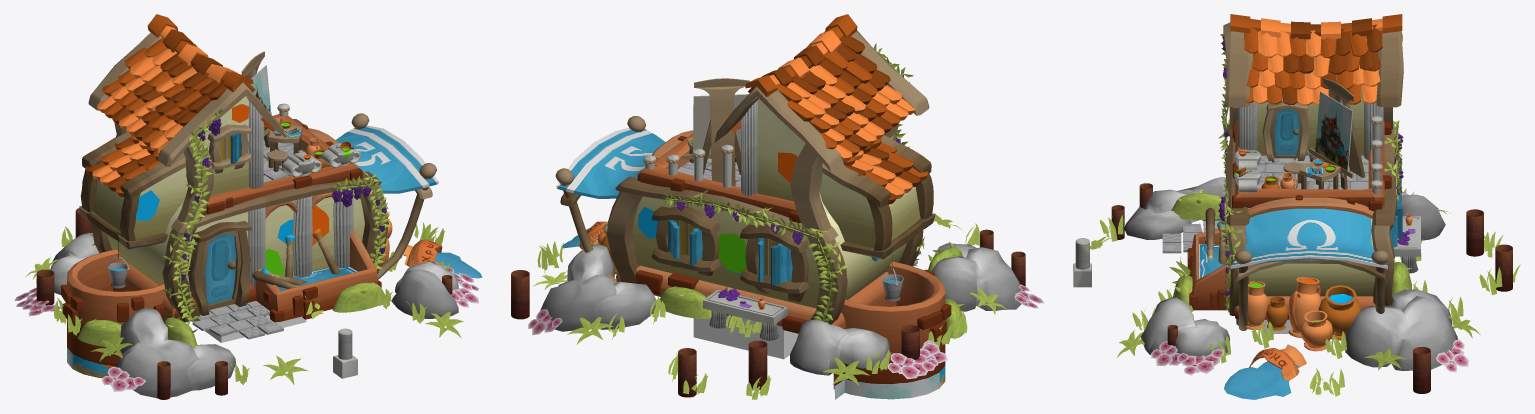
File: nha.fbx
3 renders of one model, left to right at view 1: azimuth 30°, elevation 25°; view 2: azimuth 150°, elevation 25°; view 3: azimuth 270°, elevation 25°, orthographic. The views are drawn at different scales.
Visible parts, largest first — view 1: Diorama_01_GEO, Cube; view 2: Diorama_01_GEO, Cube; view 3: Diorama_01_GEO.
Boxes of the visible parts, box(x1,y1,x2,y2) form: Diorama_01_GEO: box(14, 14, 482, 399); Cube: box(191, 315, 306, 342); Diorama_01_GEO: box(511, 14, 1044, 399); Cube: box(693, 315, 798, 359); Diorama_01_GEO: box(1073, 14, 1520, 399).
Size of the model in its own units: 955 by 656 by 900.
Materials: 4 (3 with a texture image).
